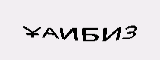А: (73, 22, 95, 44)
И: (96, 23, 115, 48)
У: (50, 23, 61, 38)
Ф: (58, 21, 71, 41)
Э: (38, 22, 51, 39)
